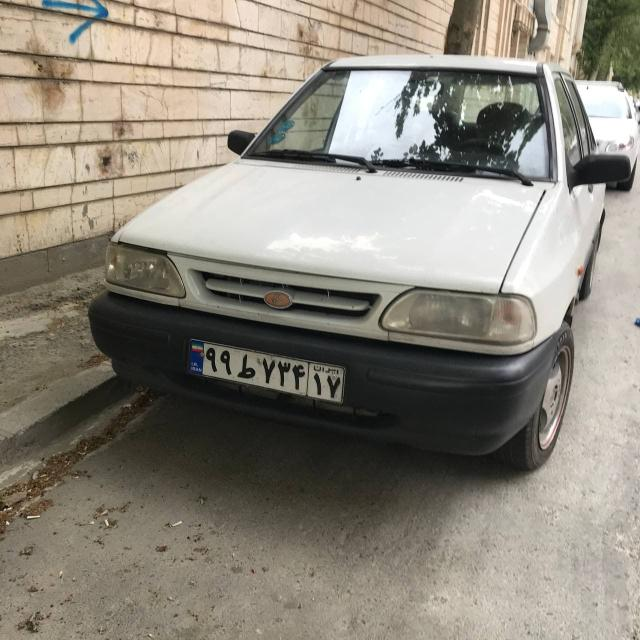Plates: (184, 340, 347, 402)
